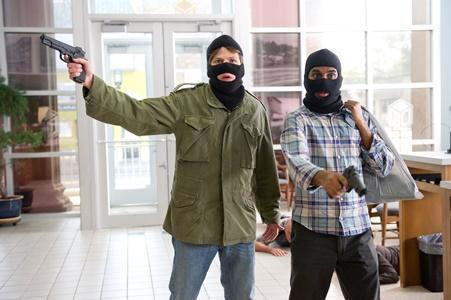criminal: (38, 34, 282, 300), (280, 48, 395, 300)
weapon: (39, 32, 89, 84), (326, 165, 370, 199)
